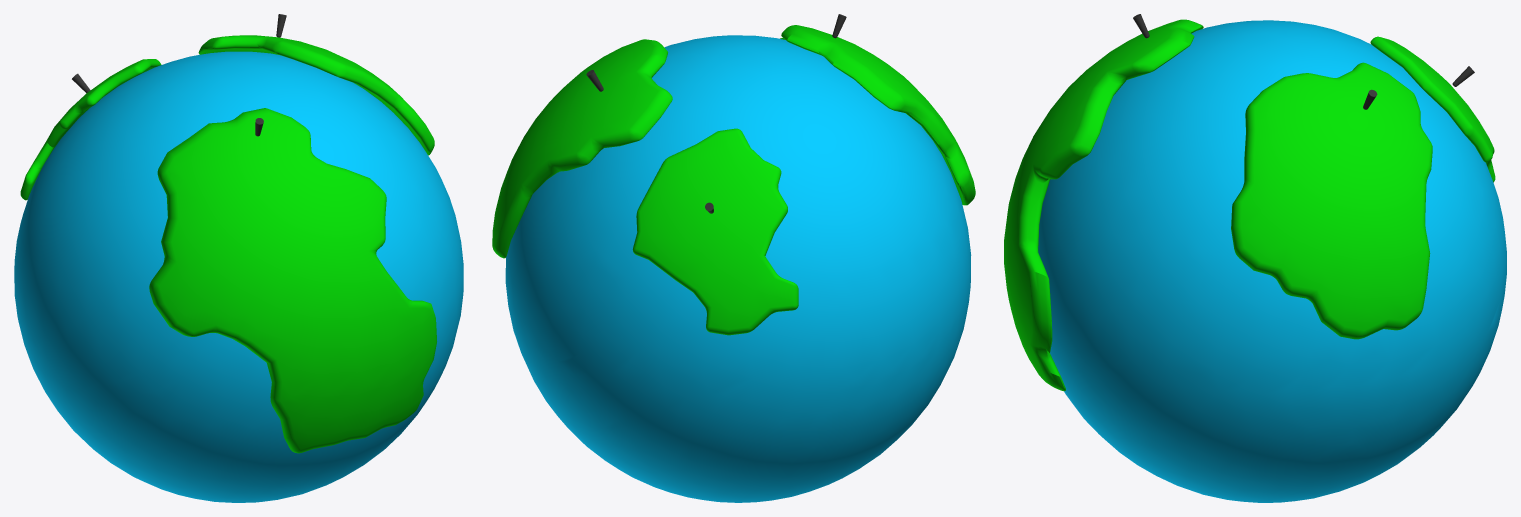
3 renders of one model, left to right at view 1: azimuth 30°, elevation 25°; view 2: azimuth 150°, elevation 25°; view 3: azimuth 270°, elevation 25°, orthographic. The views are drawn at different scales.
Visible parts, largest first — view 1: Object; view 2: Object; view 3: Object.
Boxes of the visible parts, x1,y1,x2,y2 form: Object: (14, 14, 463, 502); Object: (492, 14, 975, 502); Object: (1004, 14, 1506, 502).
Bounding box in the file's own units: 2 × 2.03 × 2.08.
